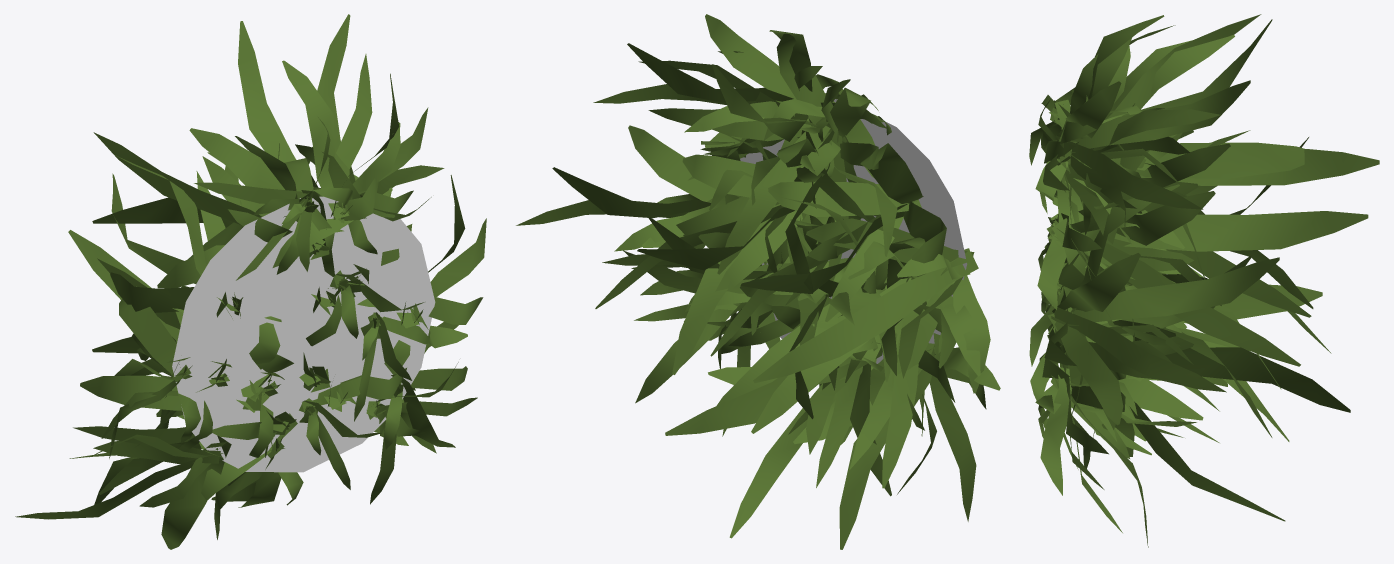
The model's file is Cesped1Opt.fbx.
The picture shows the model from 3 angles, left to right: view 1: azimuth 30°, elevation 25°; view 2: azimuth 150°, elevation 25°; view 3: azimuth 270°, elevation 25°; orthographic projection. The views are drawn at different scales.
Parts seen in each view (by area): view 1: GHI1.003; view 2: GHI1.003; view 3: GHI1.003.
Part boxes in pixels (x1,y1,x2,y2): GHI1.003: (15, 14, 486, 549); GHI1.003: (516, 14, 1000, 549); GHI1.003: (1029, 14, 1379, 547).
Size of the model in its own units: 1.14 by 1.84 by 1.9.
